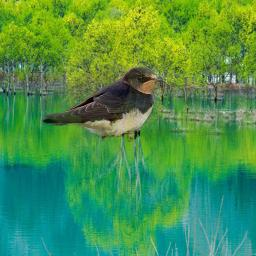Swallow: (41, 65, 162, 142)
